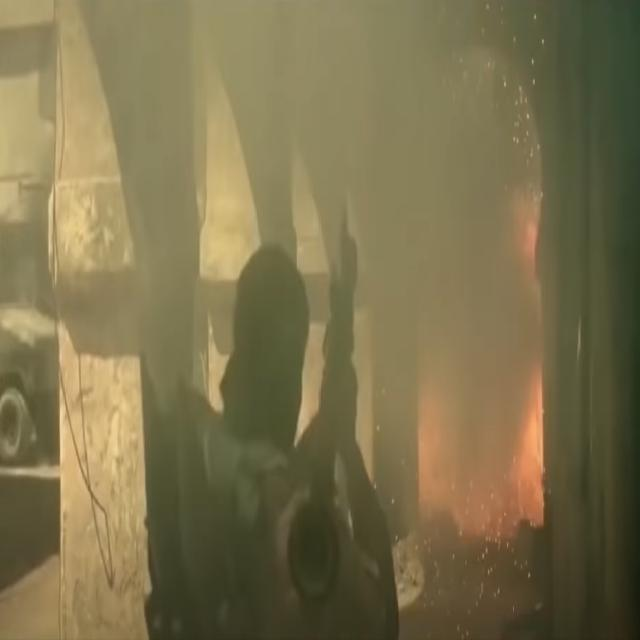bazooka: (274, 180, 383, 631)
